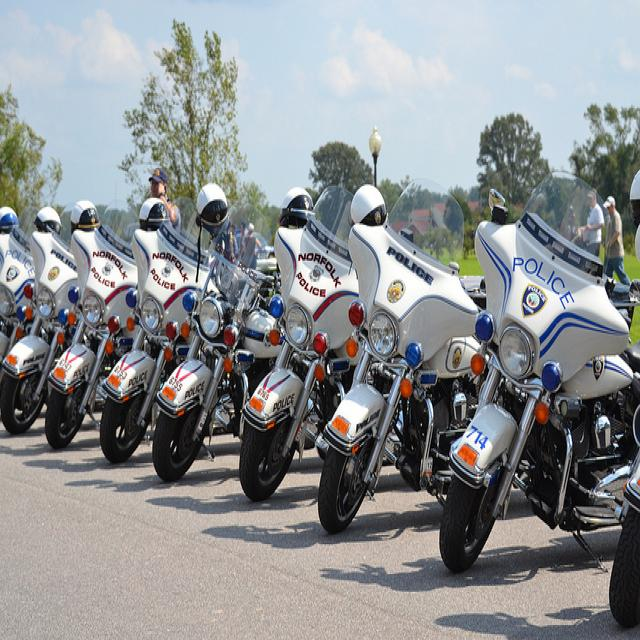motor: (439, 168, 640, 573), (317, 179, 488, 536), (237, 183, 357, 504), (154, 202, 284, 481), (98, 196, 212, 465), (46, 231, 137, 453), (0, 222, 77, 432), (606, 455, 640, 629), (0, 230, 39, 363)
